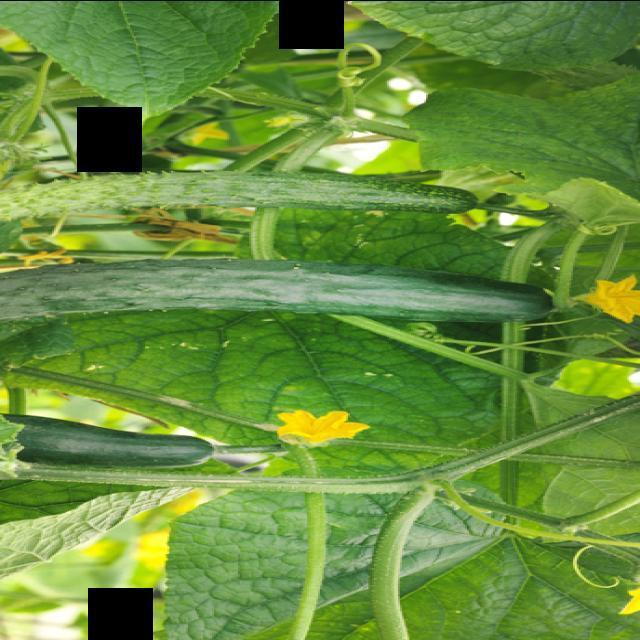cucumber: (0, 249, 566, 337), (0, 154, 493, 228), (0, 410, 252, 471)
